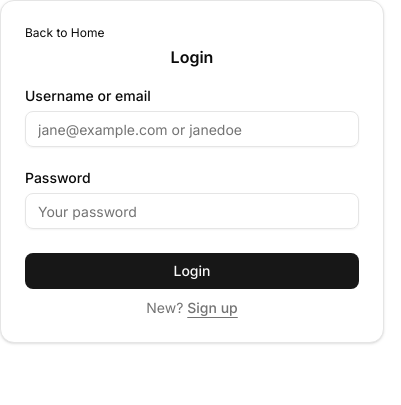
Test: LoginCard › shows backend error when login fails
Type "student" into the field labelled "Username or email".
click(192, 129); type("student")  # box x1=25 y1=111 x2=359 y2=147
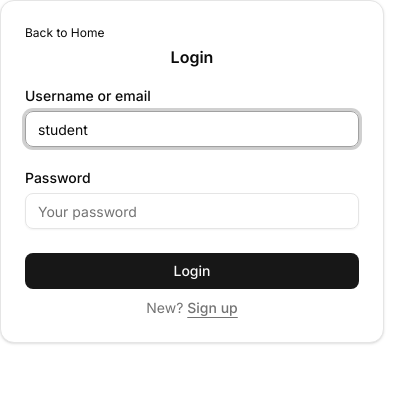
Type "wrong" into the password field labelled "Password".
click(192, 211); type("wrong")  # box x1=25 y1=193 x2=359 y2=229
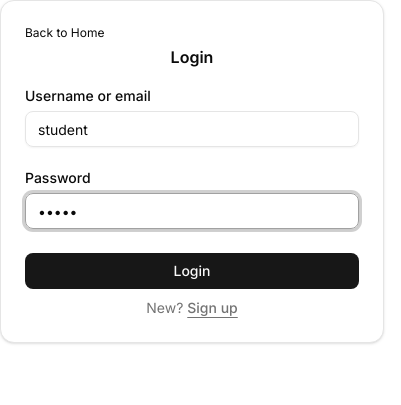
Click the button "Login".
click(192, 271)  # box x1=25 y1=253 x2=359 y2=289
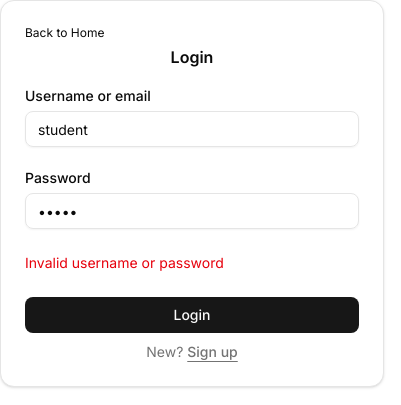
Now the text "Invalid username or password" is shown, box x1=25 y1=254 x2=224 y2=271
